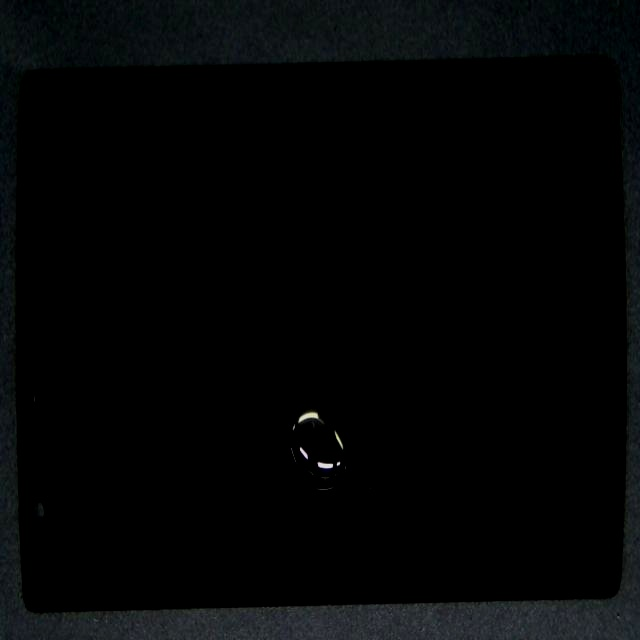oil: (183, 247, 526, 640)
